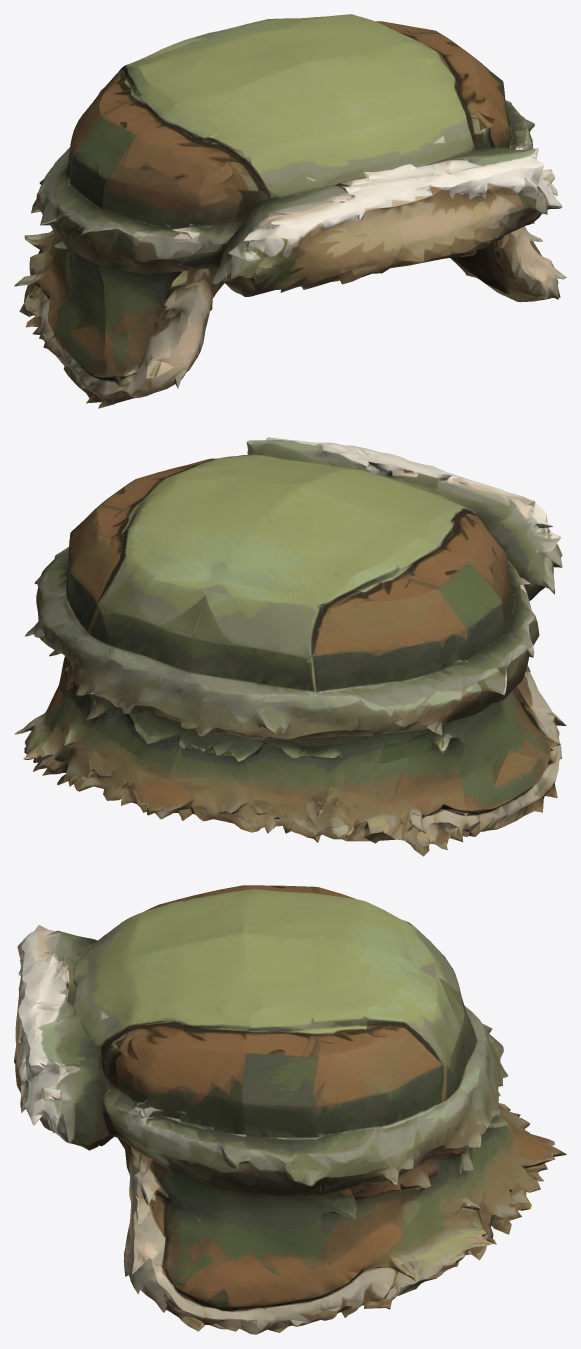
File: item_fur_hat.glb
3 renders of one model, top to bottom at view 1: azimuth 30°, elevation 25°; view 2: azimuth 150°, elevation 25°; view 3: azimuth 270°, elevation 25°, orthographic. The views are drawn at different scales.
Visible parts, largest first — view 1: item_fur_hat; view 2: item_fur_hat; view 3: item_fur_hat.
Boxes of the visible parts, box(x1,y1,x2,y2) form: item_fur_hat: box(14, 14, 566, 408); item_fur_hat: box(14, 437, 566, 856); item_fur_hat: box(14, 885, 566, 1334).
Size of the model in its own units: 0.25 by 0.1434 by 0.2478.
Materials: 1 (1 with a texture image).
